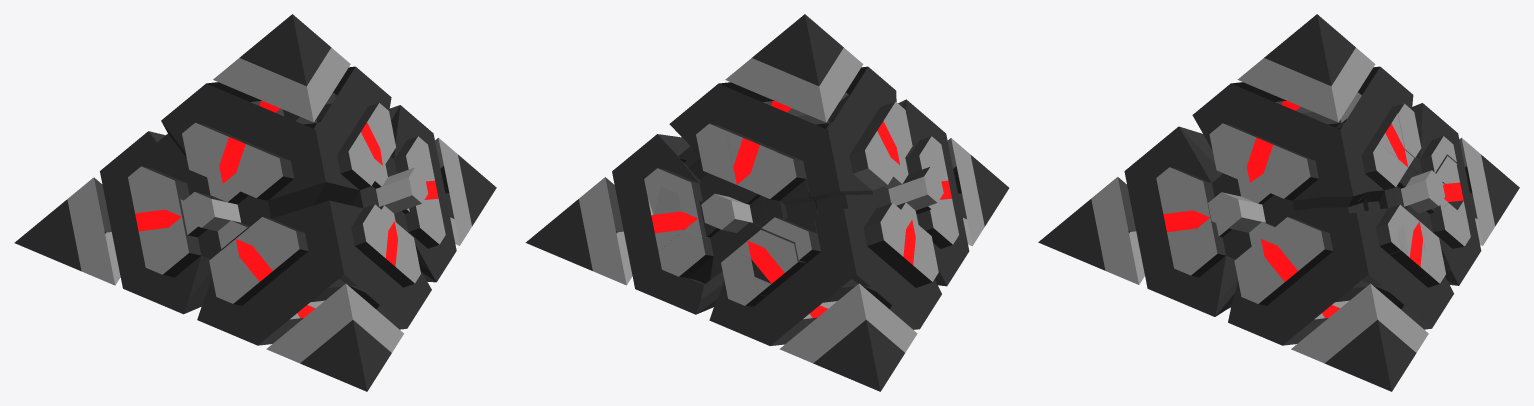
File: tothian_mine_red.glb
The picture shows the model from 3 angles, left to right: view 1: azimuth 30°, elevation 25°; view 2: azimuth 150°, elevation 25°; view 3: azimuth 270°, elevation 25°; orthographic projection.
Visible parts, largest first — view 1: Cone; view 2: Cone; view 3: Cone.
Part boxes in pixels (x1=…): Cone: x1=14, y1=14, x2=496, y2=391; Cone: x1=525, y1=14, x2=1009, y2=391; Cone: x1=1038, y1=14, x2=1519, y2=391.
Size of the model in its own units: 3.35 by 2.19 by 3.34.
